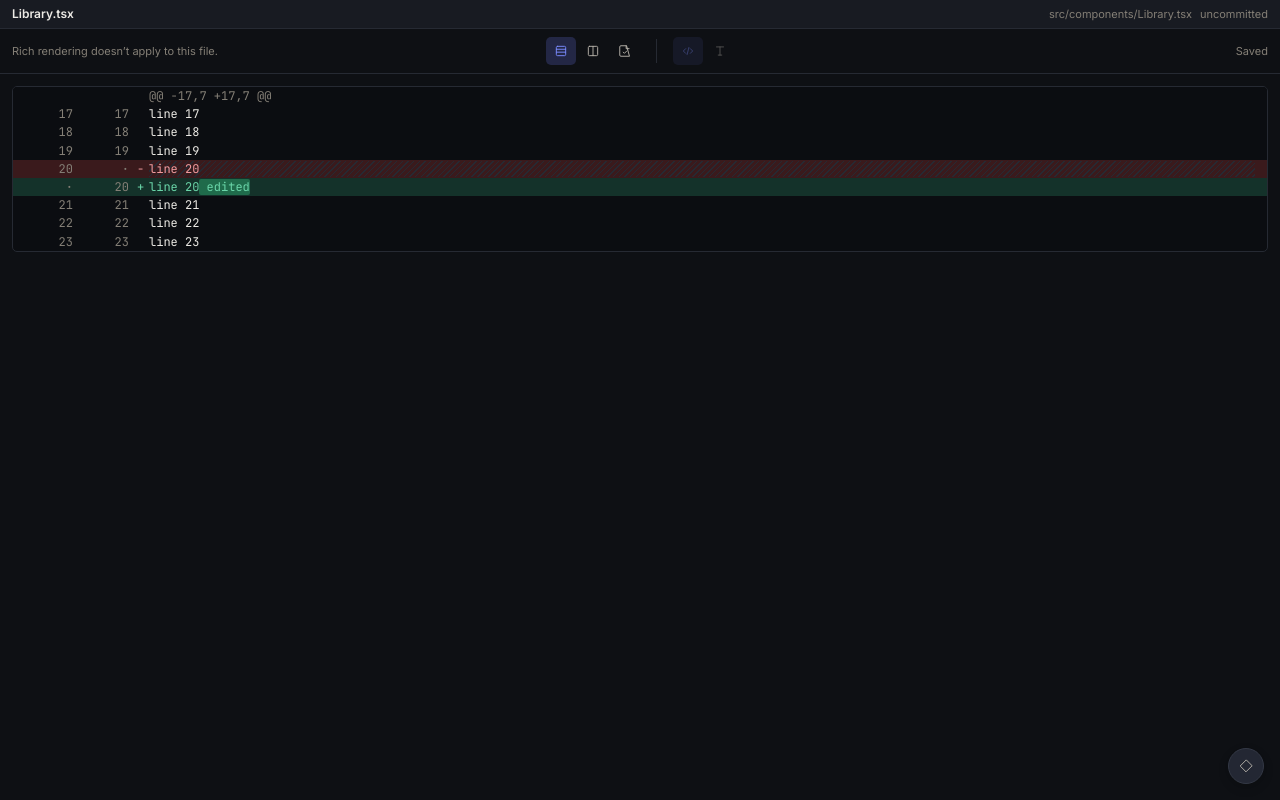
Side-by-side visualization (DFV-FR-11 .. DFV-FR-13) › shows both revisions in full rather than only the changed region (DFV-FR-11)
Expected: the element showing "@@ -17,7 +17,7 @@" is shown, [13, 87, 1267, 105]
Click the radio button named "Side-by-side".
click(592, 51)  # box [578, 37, 608, 65]
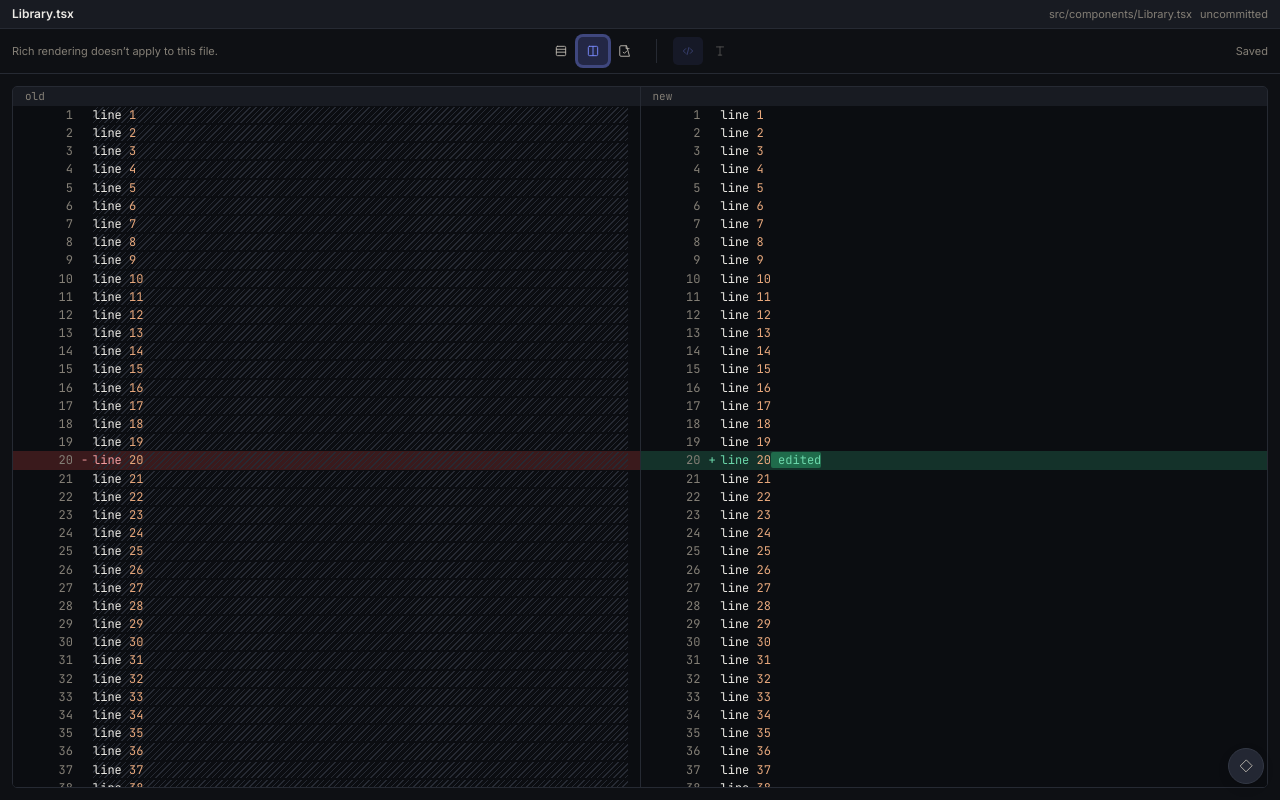
Now the 1st text with class "diff-line__gutter" reads "12", box [59, 307, 73, 323]
Now the 3rd text with class "diff-line__gutter" reads "12", box [686, 307, 700, 323]
